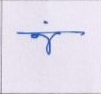anusvara: (44, 21, 48, 24)
